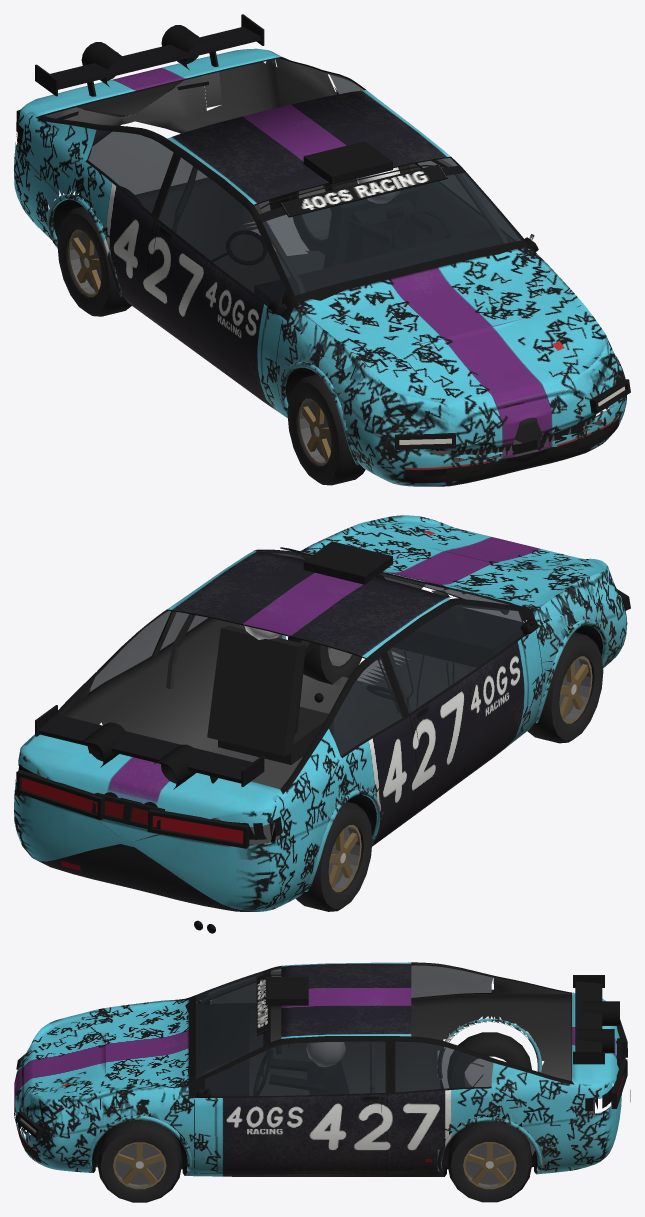
The picture shows the model from 3 angles, top to bottom: view 1: azimuth 30°, elevation 25°; view 2: azimuth 150°, elevation 25°; view 3: azimuth 270°, elevation 25°; orthographic projection. The views are drawn at different scales.
Visible parts, largest first — view 1: body, wheel_fr, wheel_rr, wheel_rl; view 2: body, wheel_fr, wheel_rr, wheel_fl; view 3: body, wheel_fl, wheel_rl, wheel_rr.
Part boxes in pixels (x1=…): body: x1=14, y1=14, x2=630, y2=486; wheel_fr: x1=287, y1=374, x2=365, y2=485; wheel_rr: x1=57, y1=205, x2=131, y2=316; wheel_rl: x1=288, y1=179, x2=357, y2=254; body: x1=14, y1=515, x2=630, y2=933; wheel_fr: x1=527, y1=630, x2=603, y2=743; wheel_rr: x1=296, y1=800, x2=372, y2=911; wheel_fl: x1=288, y1=636, x2=361, y2=684; body: x1=14, y1=962, x2=630, y2=1176; wheel_fl: x1=97, y1=1120, x2=182, y2=1202; wheel_rl: x1=447, y1=1121, x2=532, y2=1202; wheel_rr: x1=447, y1=1032, x2=531, y2=1087.
Bounding box in the file's own units: 1.79 × 1.38 × 4.6.
2 materials, 1 textured.
